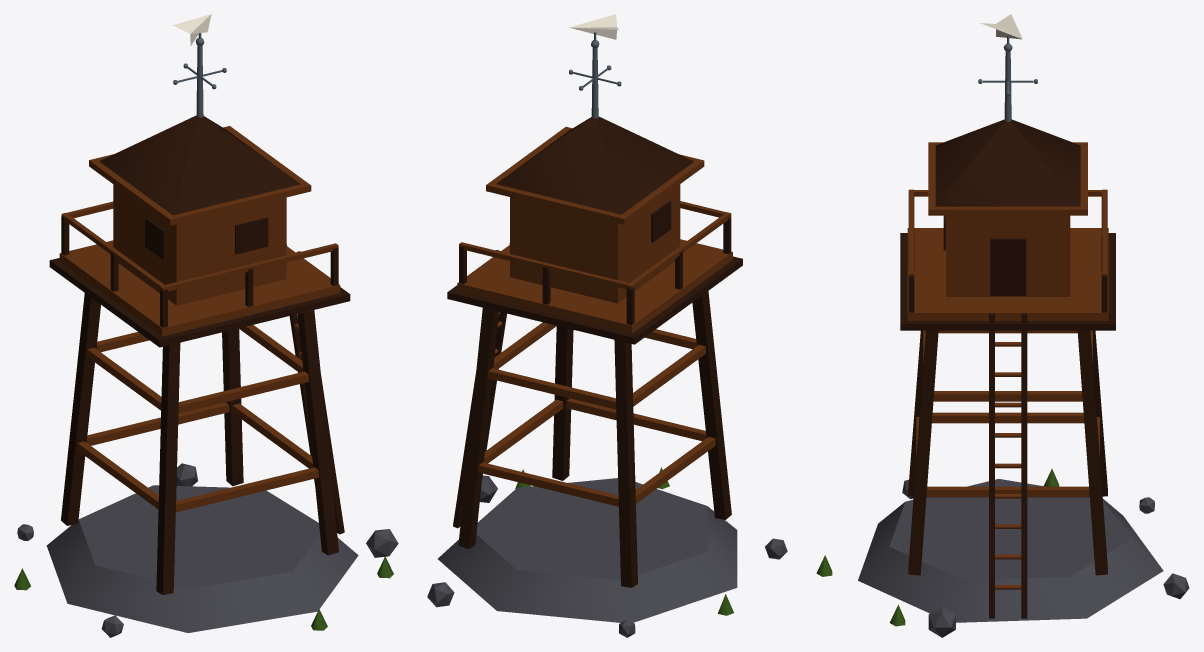
The model's file is watchtower.obj.
The picture shows the model from 3 angles, left to right: view 1: azimuth 30°, elevation 25°; view 2: azimuth 150°, elevation 25°; view 3: azimuth 270°, elevation 25°; orthographic projection. The views are drawn at different scales.
Parts seen in each view (by area): view 1: base_rock, cabin, roof, platform, leg_2, leg_0, leg_3, platform_rim, roof_trim, leg_1, brace_0_0, brace_1_0 (+13 smaller); view 2: base_rock, cabin, roof, platform, leg_3, leg_1, leg_2, platform_rim, roof_trim, leg_0, brace_0_2, brace_1_2 (+13 smaller); view 3: base_rock, roof, platform, cabin, platform_rim, leg_0, leg_1, roof_trim, door, ladder_rail_0, ladder_rail_1, brace_0_1 (+5 smaller).
Boxes of the visible parts, x1,y1,x2,y2 form: base_rock: (46,485,358,632); cabin: (113,184,286,305); roof: (99,115,300,215); platform: (59,240,340,336); leg_2: (156,342,180,594); leg_0: (297,310,338,555); leg_3: (61,293,100,525); platform_rim: (49,258,350,347); roof_trim: (89,126,311,225); leg_1: (222,328,243,486); brace_0_0: (176,467,318,512); brace_1_0: (178,371,309,413); base_rock: (438,478,737,622); cabin: (510,184,680,303); roof: (496,116,693,214); platform: (457,239,732,333); leg_3: (614,340,637,587); leg_1: (458,307,499,548); leg_2: (692,291,731,519); platform_rim: (447,256,742,344); roof_trim: (486,126,704,224); leg_0: (552,326,573,480); brace_0_2: (478,462,618,506); brace_1_2: (488,368,616,409); base_rock: (858,479,1163,622); roof: (935,119,1080,206); platform: (907,228,1108,320); cabin: (946,215,1070,296); platform_rim: (900,233,1115,330); leg_0: (908,330,938,575); leg_1: (1077,330,1107,575); roof_trim: (928,142,1087,215); door: (990,238,1026,295); ladder_rail_0: (1021,313,1027,618); ladder_rail_1: (989,313,994,618); brace_0_1: (926,486,1089,497).
Bounding box in the file's own units: 5 × 8.11 × 5.1.
